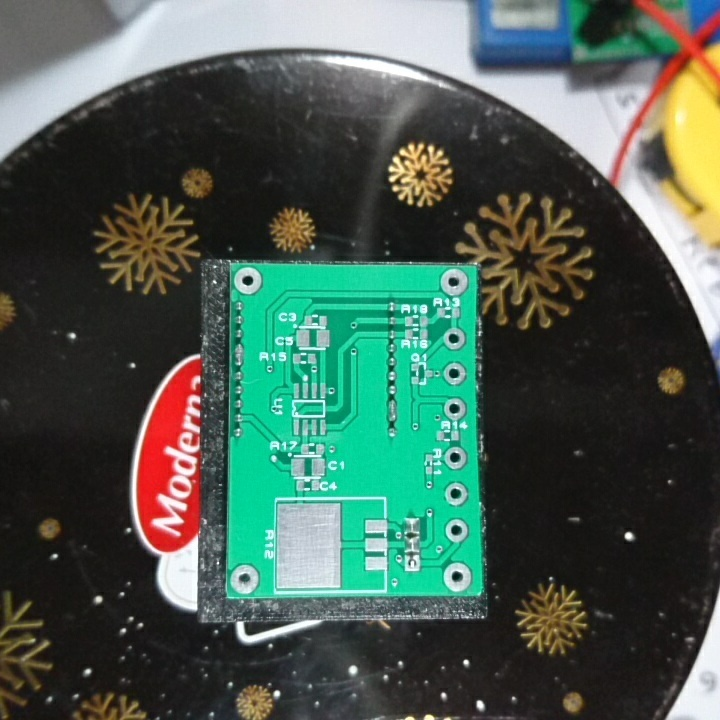F: (441, 559, 476, 594), (227, 561, 260, 595), (230, 266, 264, 296), (438, 266, 470, 297), (441, 358, 469, 387), (443, 515, 470, 545), (443, 443, 470, 472), (444, 482, 471, 509), (441, 395, 467, 423), (442, 326, 466, 354), (401, 553, 421, 576)
P: (384, 396, 401, 423), (233, 339, 248, 369)
